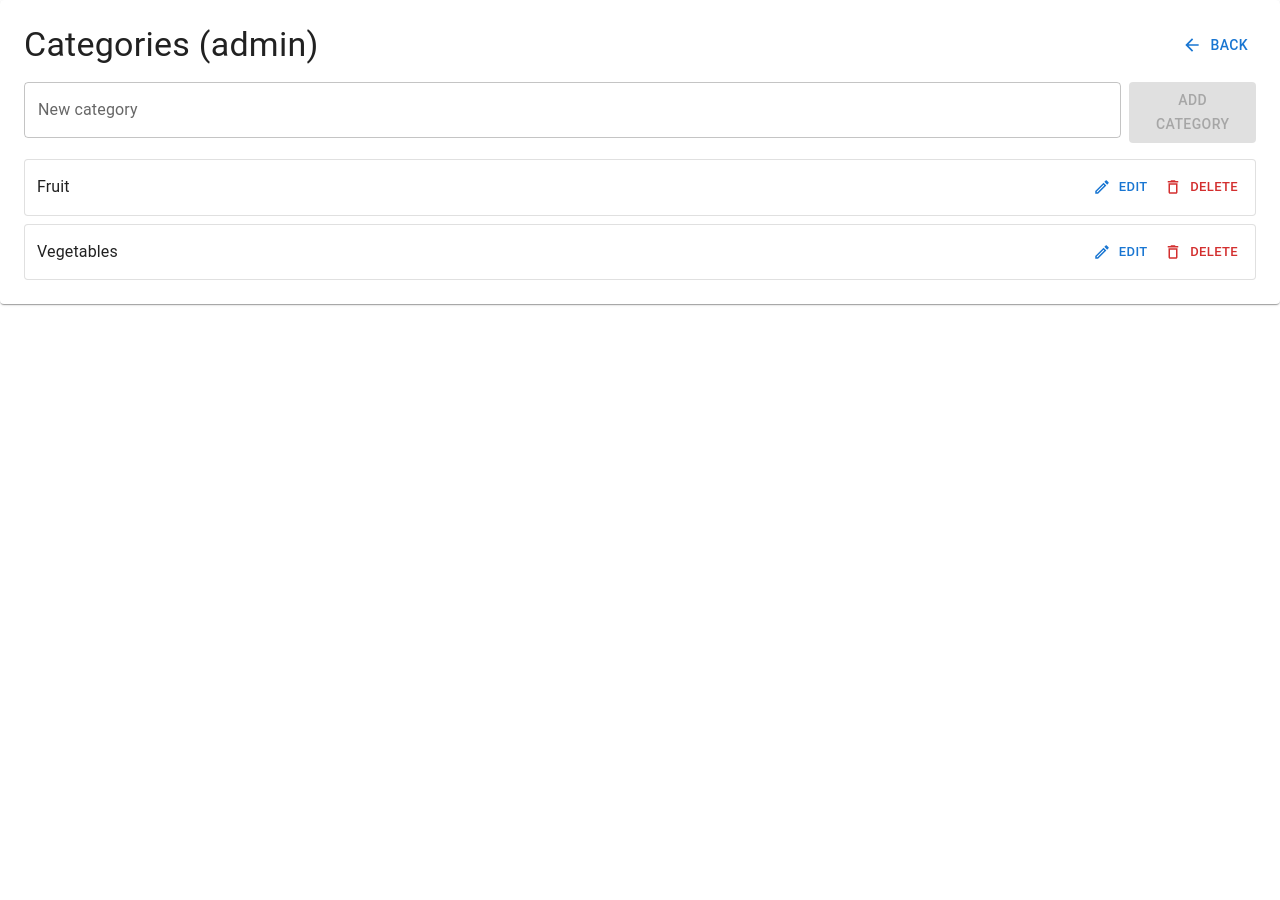
AdminCategoriesPage › shows specific 409 message when delete is blocked
What coordinates should you click on to do the following:
click the button "Delete" in the row of "Fruit"
I would click on:
 (1202, 187)
Its box is x1=1161 y1=172 x2=1243 y2=203.
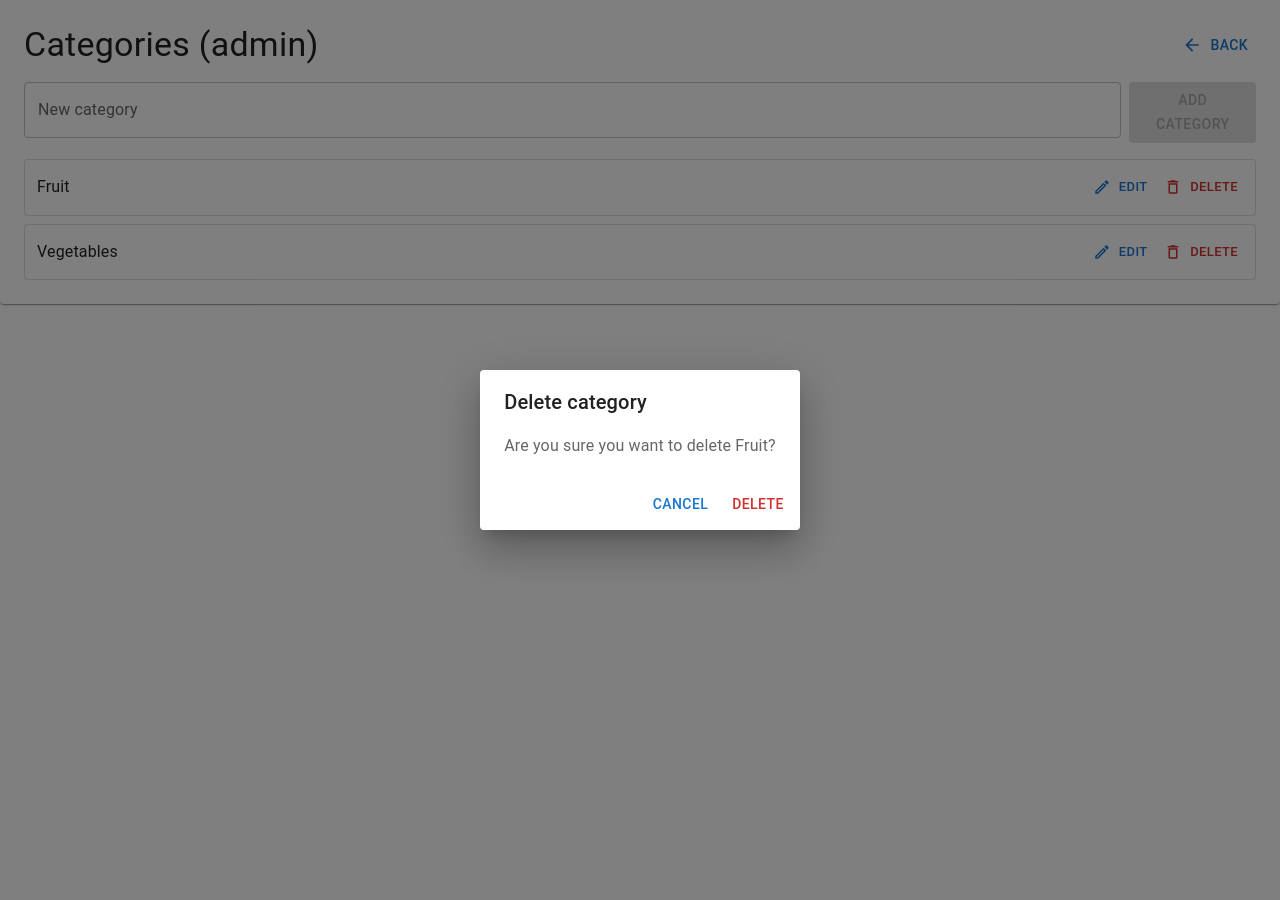
What coordinates should you click on to do the following:
click the button "Delete"
I would click on:
 (758, 504)
Its box is x1=724 y1=486 x2=792 y2=522.
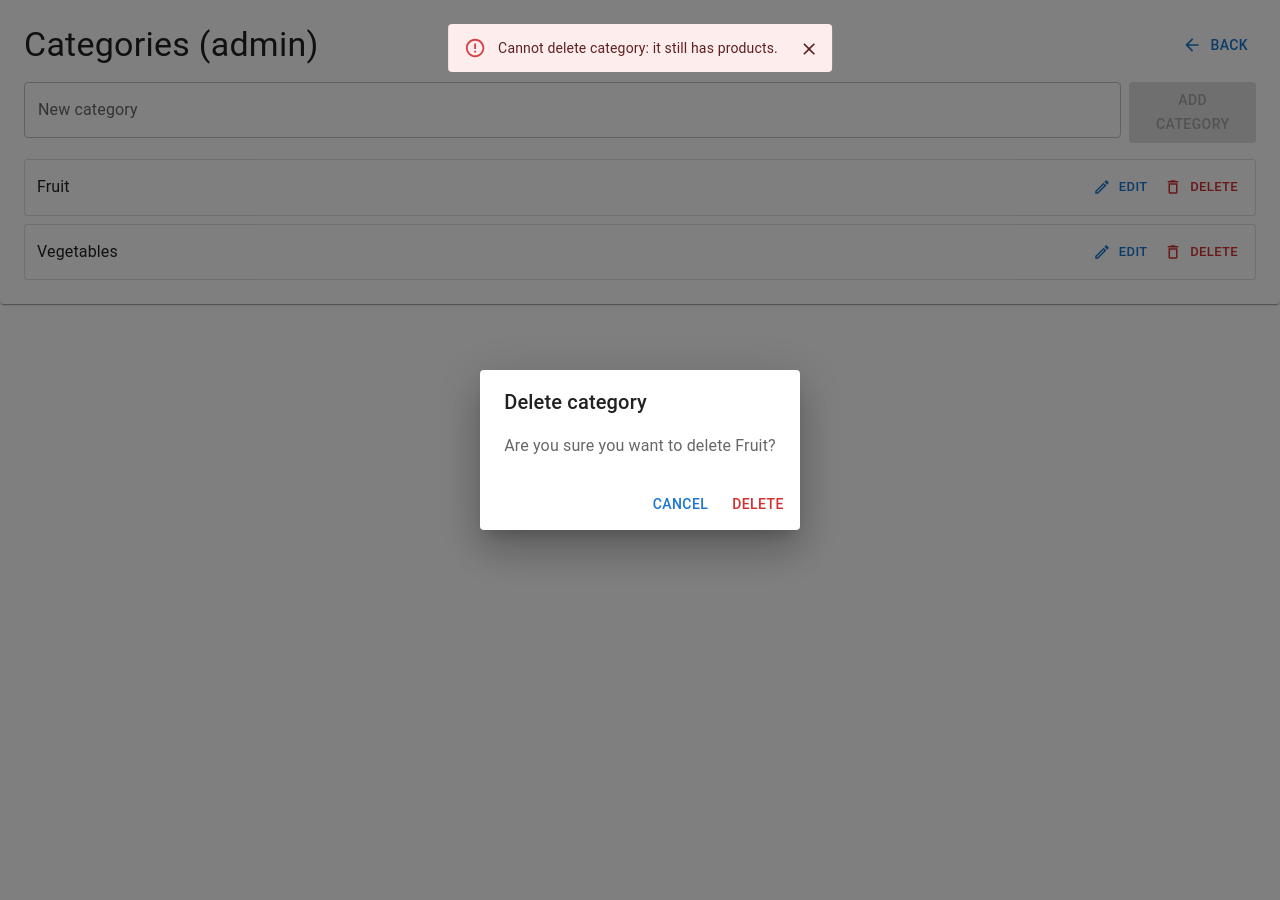
Check: the text "Cannot delete category: it still has products." is shown, box x1=498 y1=40 x2=778 y2=56
